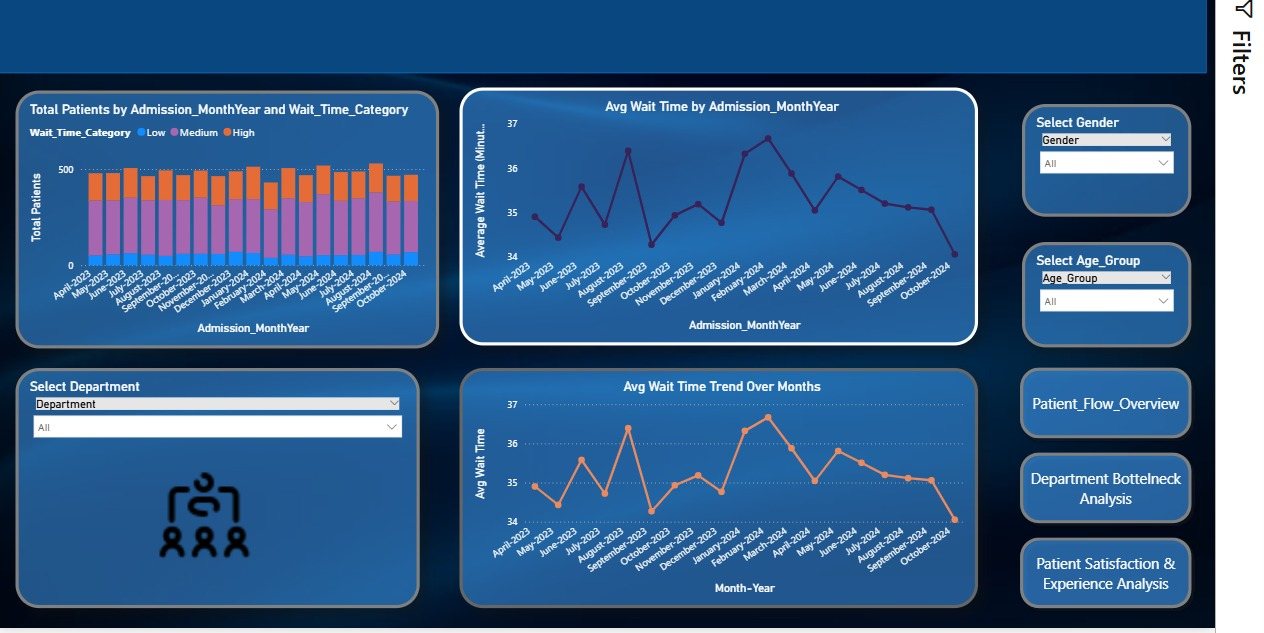

The dashboard page shown, as its layout file describes it:
{"tool":"powerbi","page":{"name":"Wait Time Trends & Peak Analysis","canvas":[1550,800],"ordinal":2},"visuals":[{"type":"lineChart","title":"Avg Wait Time Trend Over Months","fields":{"Category":["Hospital_Patient_Data.Admission_MonthYear"],"Y":["Hospital_Patient_Data.Avg Wait Time"]},"box":[590,469.2,659.6,305],"z":0},{"type":"columnChart","fields":{"Category":["Hospital_Patient_Data.Admission_MonthYear"],"Series":["Hospital_Patient_Data.Wait_Time_Catergory"],"Y":["Hospital_Patient_Data.Total Patients"]},"box":[24.8,116.1,538.9,328.3],"z":1000},{"type":"shape","box":[0,0,1539.5,94.4],"z":2000},{"type":"lineChart","fields":{"Category":["Hospital_Patient_Data.Admission_MonthYear"],"Y":["Hospital_Patient_Data.Avg Wait Time"]},"box":[590,113,659.6,328.3],"z":3000},{"type":"pageNavigator","box":[1292.9,459.3,236.3,325.1],"z":7000},{"type":"slicer","title":"Select Age_Group","fields":{"Values":["Hospital_Patient_Data.Age_Group"]},"box":[1304.3,308.1,215.5,134.2],"z":8000},{"type":"slicer","title":"Select Gender","fields":{"Values":["Hospital_Patient_Data.Gender"]},"box":[1304.3,134.2,215.5,143.7],"z":9000},{"type":"slicer","title":"Select Department","fields":{"Values":["Hospital_Patient_Data.Department"]},"box":[24.5,468.7,514.1,305.5],"z":10000},{"type":"image","box":[185.3,596.3,158.3,122.7],"z":10001}]}

Visuals, with their boxes on the page's 1550x800 design canvas (x1, y1, x2, y2). These are canvas units, not pixel positions in the 1264x633 screenshot, which may show the page scaled, cropped or inside an application window:
"Avg Wait Time Trend Over Months" lineChart: [x1=590, y1=469, x2=1250, y2=774]
columnChart - Hospital_Patient_Data.Admission_MonthYear x Hospital_Patient_Data.Wait_Time_Catergory: [x1=25, y1=116, x2=564, y2=444]
shape: [x1=0, y1=0, x2=1540, y2=94]
lineChart - Hospital_Patient_Data.Admission_MonthYear x Hospital_Patient_Data.Avg Wait Time: [x1=590, y1=113, x2=1250, y2=441]
pageNavigator: [x1=1293, y1=459, x2=1529, y2=784]
"Select Age_Group" slicer: [x1=1304, y1=308, x2=1520, y2=442]
"Select Gender" slicer: [x1=1304, y1=134, x2=1520, y2=278]
"Select Department" slicer: [x1=24, y1=469, x2=539, y2=774]
image: [x1=185, y1=596, x2=344, y2=719]
